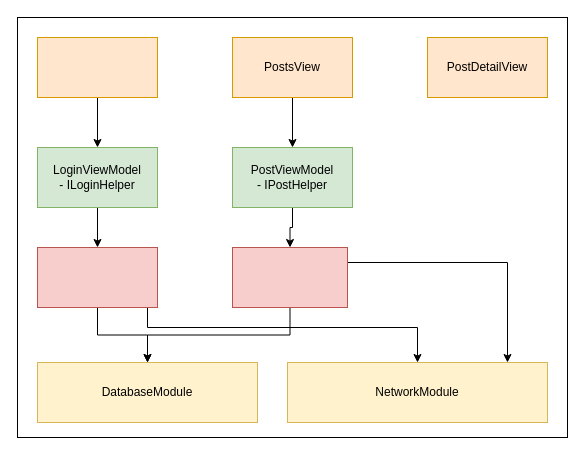
This 585x455 diagram has some shape labels left out. Each missing label, with the centre of its shape:
"LoginHelper: ILoginHelper" belongs at pixel 97 277.
"LoginView" belongs at pixel 97 67.
"PostHelper - IPostHelper" belongs at pixel 290 277.
